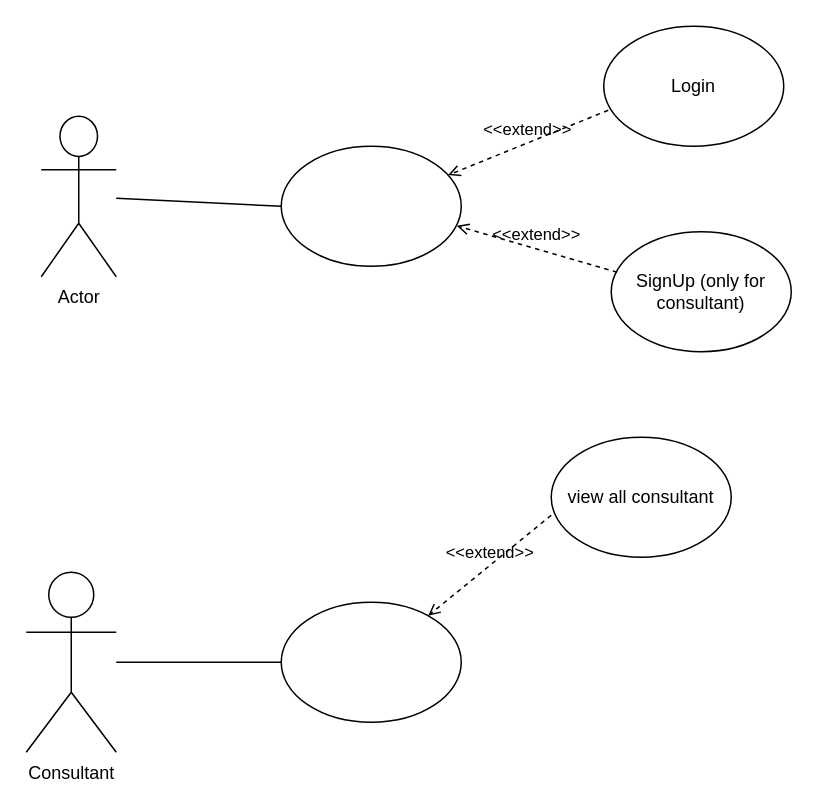
Image size: 818x810. Some labels were removed from this diagram. The shapes that lost their labels are listed below. From the top down, each one's centre as x and y in pixels, then its label:
the point at 370,205: Home
the point at 370,661: Menu
